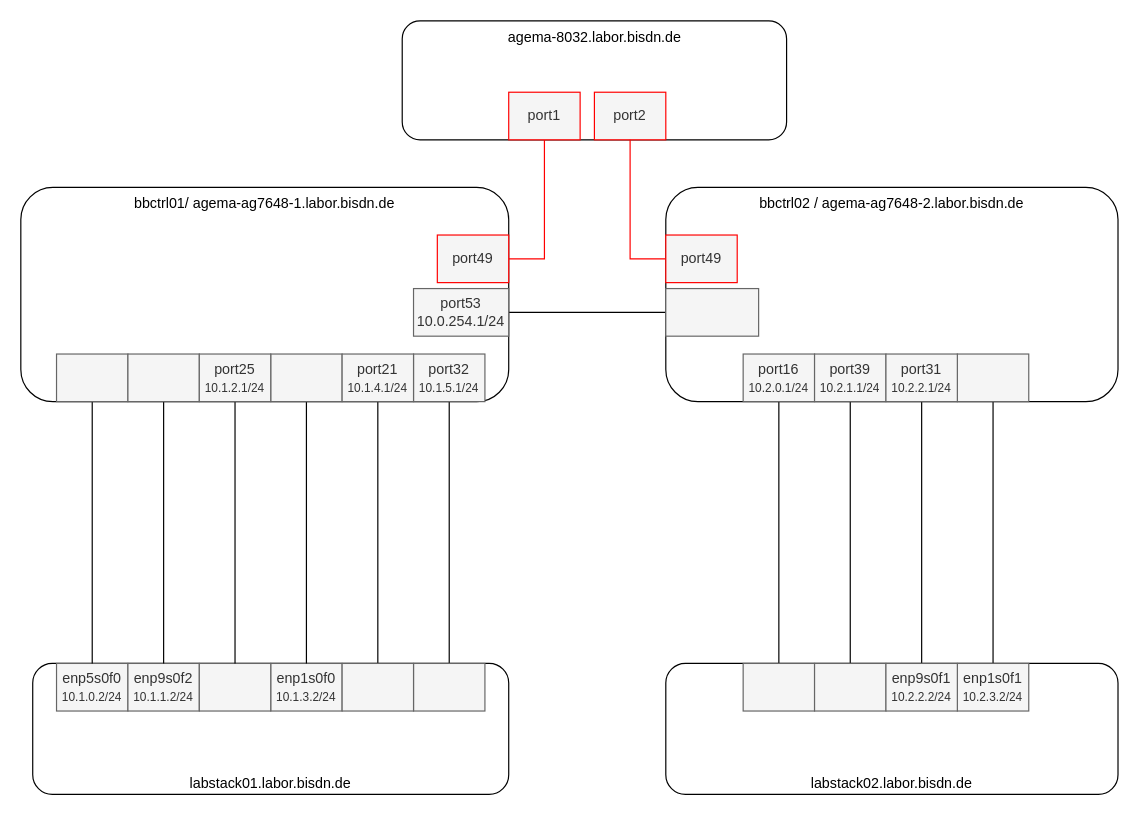
Some shapes in this 1139 by 815 pixel diagram are drawn without their labels. The centre of each missing label's shape, as x and y in pixels:
"enp12s0f0 10.1.2.2/24" goes at [234,686].
"enp3s0f0 10.1.4.2/24" goes at [377,686].
"enp3s0f1 10.2.1.2/24" goes at [849,686].
"enp5s0f1 10.2.0.2/24" goes at [778,686].
"enp9s0f0 10.1.5.2/24" goes at [448,686].
"port1 10.1.0.1/24" goes at [91,377].
"port2 10.2.3.1/24" goes at [992,377].
"port35 10.1.3.1/24" goes at [306,377].
"port44 10.1.1.1/24" goes at [163,377].
"port53 10.0.254.2/24" goes at [712,311].
